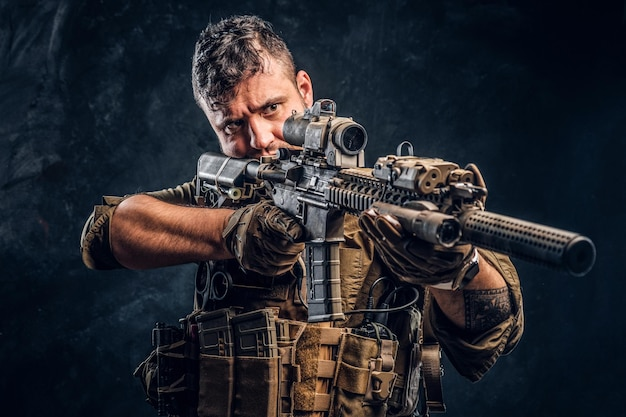gun: (192, 98, 596, 327)
